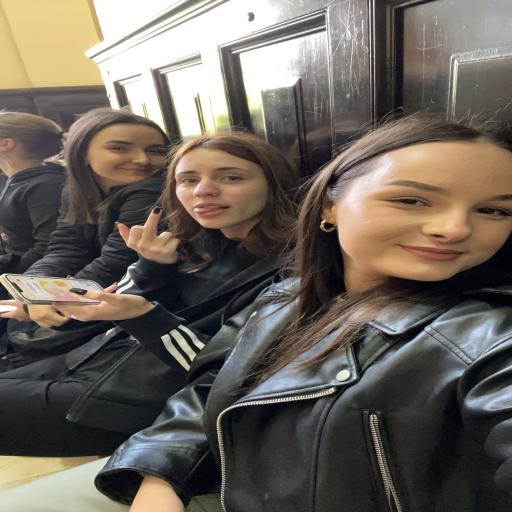marija: (335, 143, 512, 282)
